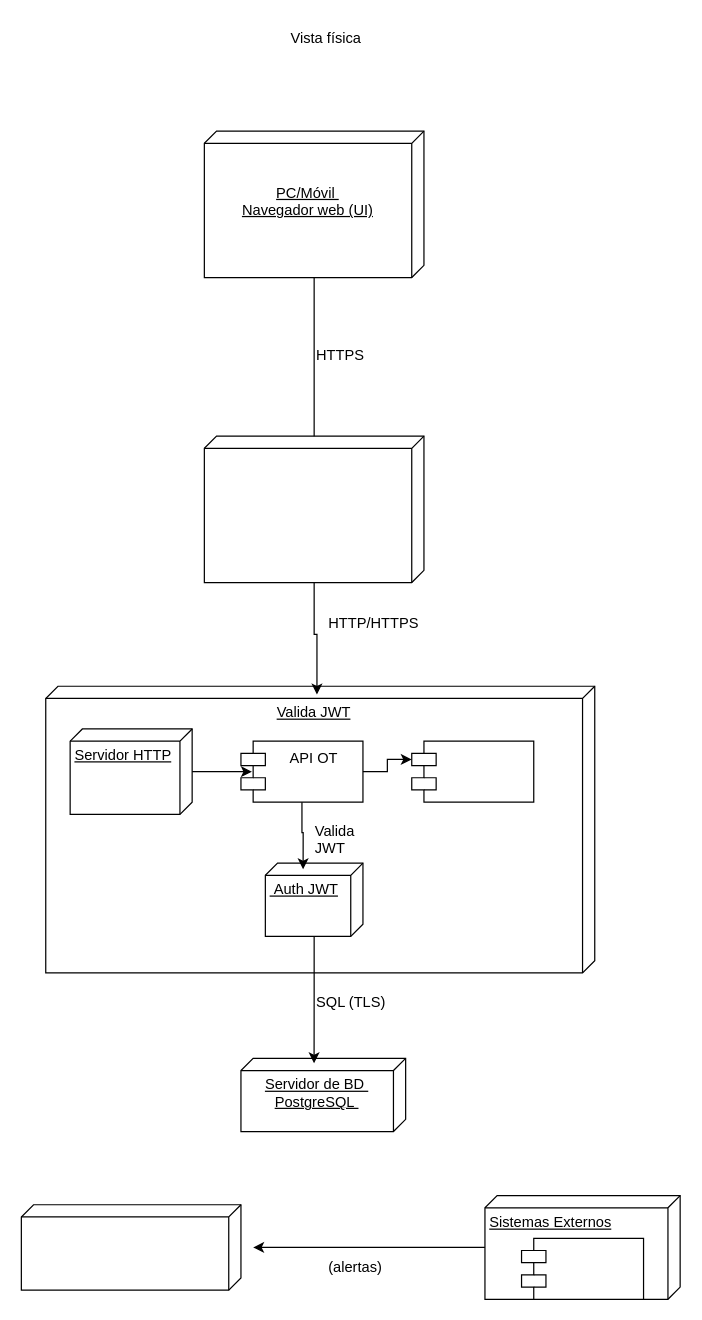
Image size: 702x1320. Some labels were removed from this diagram. The shapes that lost their labels are listed below. From the top down, each one's centre as x and y in pixels, then its label:
At point 313,509: "Proxy / Balanceador (opt.) NGINX".
At point 472,771: "LOGS".
At point 130,1247: "Servicio Notificaciones SMTP / Email".
At point 582,1268: "Trimble Connect (NI)".
